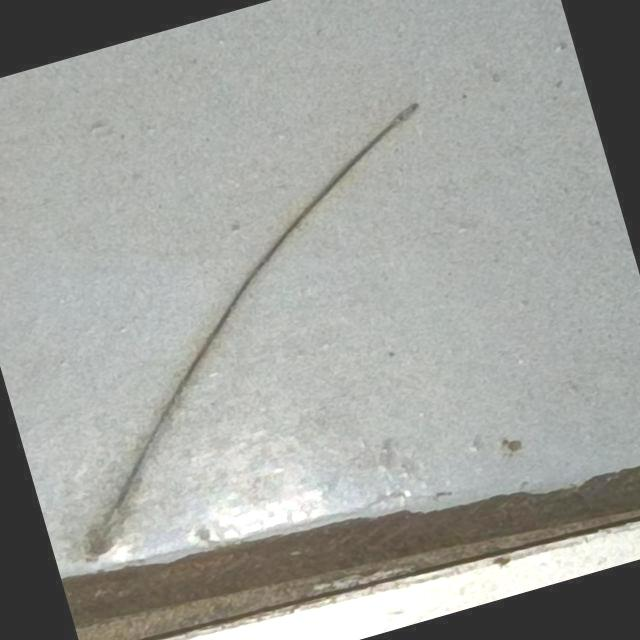defect: (78, 94, 430, 562)
